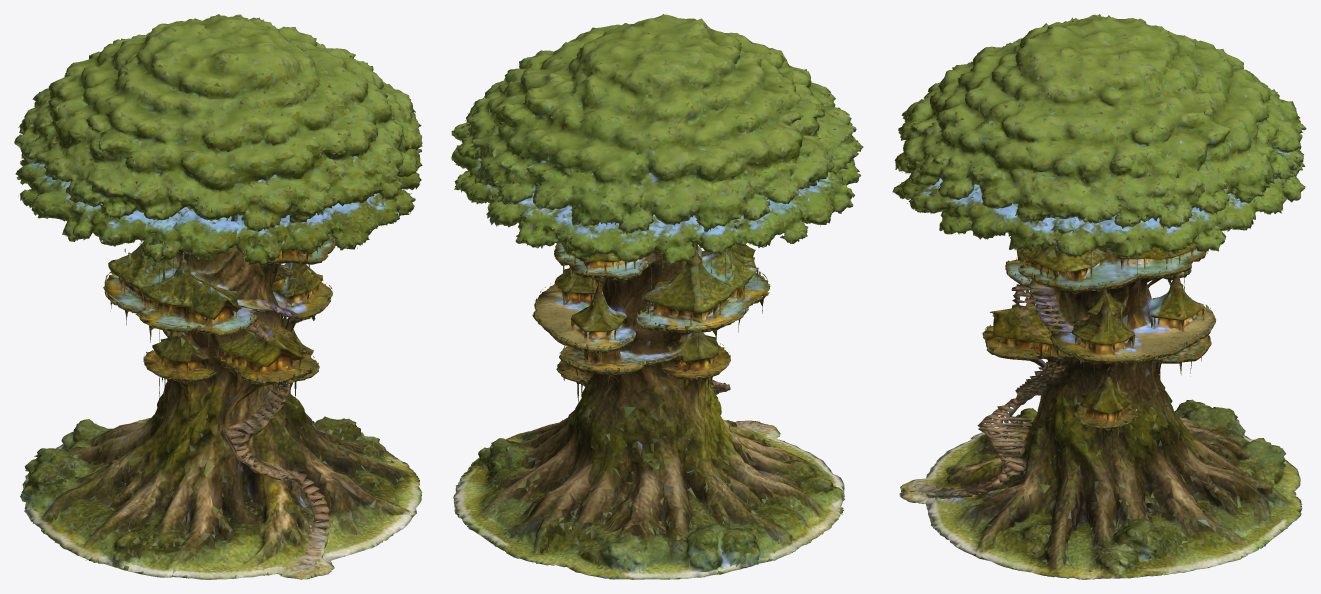
File: Lantern_Tree_Palace.glb
The picture shows the model from 3 angles, left to right: view 1: azimuth 30°, elevation 25°; view 2: azimuth 150°, elevation 25°; view 3: azimuth 270°, elevation 25°; orthographic projection. The views are drawn at different scales.
Visible parts, largest first — view 1: Lantern_Tree_Palace; view 2: Lantern_Tree_Palace; view 3: Lantern_Tree_Palace.
Part boxes in pixels (x1,y1,x2,y2): Lantern_Tree_Palace: (14,14,422,579); Lantern_Tree_Palace: (451,14,863,579); Lantern_Tree_Palace: (892,14,1306,579).
Bounding box in the file's own units: 1.54 × 1.89 × 1.54.
1 material, 1 textured.
